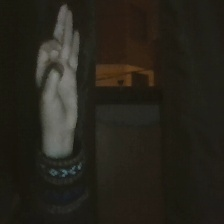F: (29, 3, 90, 140)
